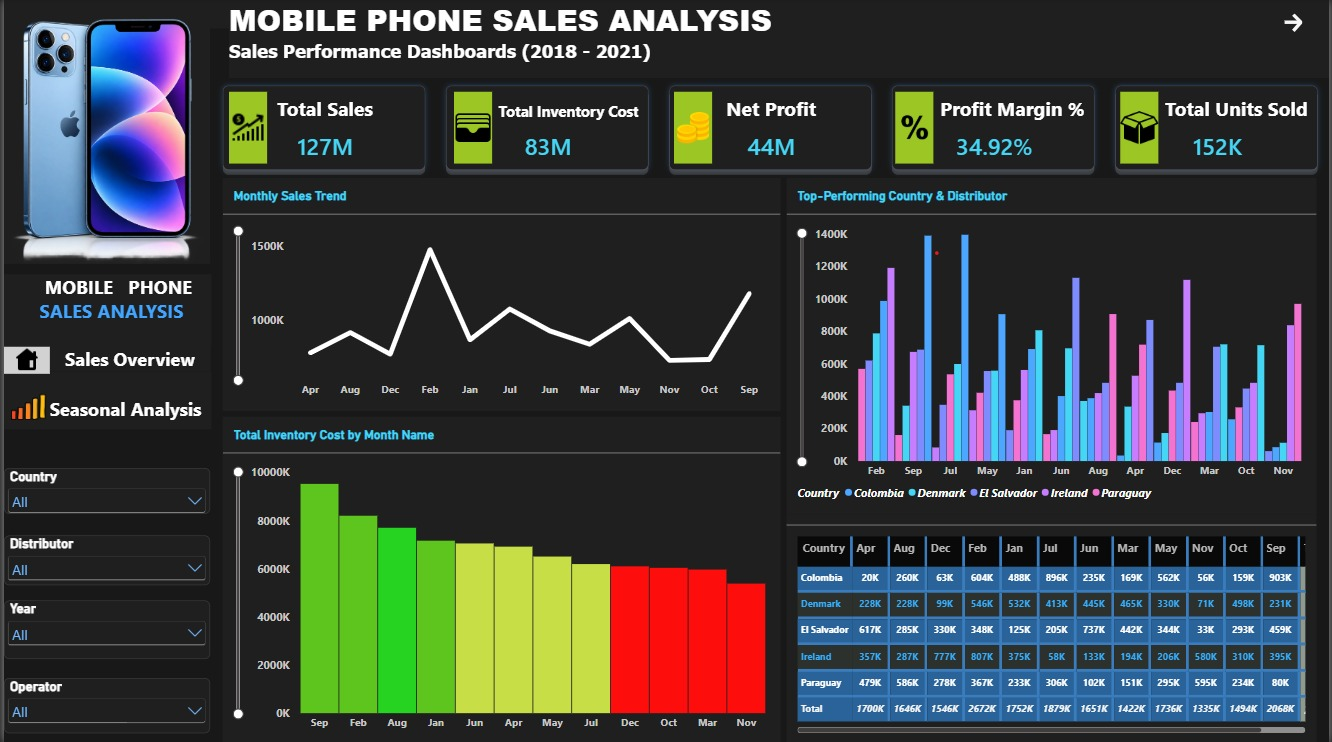

The page's visual inventory and layout, read from the dashboard file:
{"tool":"powerbi","page":{"name":"Page 1","canvas":[1920,1080],"ordinal":0},"visuals":[{"type":"cardVisual","fields":{"Data":["Mesure.Total Sales","Mesure.Total Cost","Mesure.Net Profit","Mesure.Profit Margin %","Mesure.Total Units Sold"]},"box":[305.6,116.7,1607.4,144.4],"z":2000},{"type":"slicer","fields":{"Values":["Phone Sales.Country"]},"box":[0,680.4,298.1,66.7],"z":3000},{"type":"slicer","fields":{"Values":["Phone Sales.Distributor"]},"box":[0,778.2,298.1,72.2],"z":4000},{"type":"slicer","fields":{"Values":["Date_Phones.Year"]},"box":[0,872.3,298.1,85.2],"z":5000},{"type":"clusteredColumnChart","title":"Top-Performing Country & Distributor","fields":{"Category":["Date_Phones.Month Name"],"Series":["Phone Sales.Country"],"Y":["Mesure.Total Sales"]},"box":[1123.8,260.6,767.3,486.8],"z":6000},{"type":"textbox","box":[150,0,233.8,43.8],"z":7000},{"type":"textbox","box":[325.9,0,1594.4,116],"z":8000},{"type":"slicer","fields":{"Values":["Phone Sales.Operator"]},"box":[0,985.2,298.1,79.6],"z":9000},{"type":"image","box":[0,0,298.1,385.2],"z":10000},{"type":"textbox","box":[0,400,300,103.7],"z":11000},{"type":"textbox","box":[0,468.5,299,72],"z":12000},{"type":"textbox","box":[0,540.7,300,83.3],"z":13000},{"type":"image","box":[0,563,66.7,61.1],"z":14000},{"type":"image","box":[0,505.6,66.7,38.9],"z":15000},{"type":"image","box":[1616.7,136,55,104],"z":16000},{"type":"image","box":[325.9,136,55,104],"z":17000},{"type":"image","box":[970.4,136,55,104],"z":18000},{"type":"image","box":[1290.7,136,55,104],"z":19000},{"type":"image","box":[651.9,136,55,104],"z":20000},{"type":"lineChart","title":"Monthly Sales Trend","fields":{"Category":["Date_Phones.Month Name"],"Y":["Mesure.Net Profit"]},"box":[316.7,260.6,807.1,337],"z":21000},{"type":"pivotTable","fields":{"Columns":["Date_Phones.Month Name"],"Rows":["Phone Sales.Country"],"Values":["Mesure.Total Inventory Cost"]},"box":[1132.8,747.4,767.3,333],"z":22000},{"type":"lineClusteredColumnComboChart","fields":{"Category":["Date_Phones.Month Name"],"Y":["Mesure.Total Inventory Cost"]},"box":[316.7,606.2,807.1,474.1],"z":23000},{"type":"actionButton","box":[1811.5,0,108.6,72.4],"z":24000}]}

Visuals, with their boxes in screenshot pixels (x1, y1, x2, y2), scaled from the page's 1920x1080 canvas onto the 1332x742 screenshot:
cardVisual - Mesure.Total Sales x Mesure.Total Cost: locate(212, 80, 1327, 179)
slicer - Phone Sales.Country: locate(0, 467, 207, 513)
slicer - Phone Sales.Distributor: locate(0, 535, 207, 584)
slicer - Date_Phones.Year: locate(0, 599, 207, 658)
"Top-Performing Country & Distributor" clusteredColumnChart: locate(780, 179, 1312, 513)
textbox: locate(104, 0, 266, 30)
textbox: locate(226, 0, 1331, 80)
slicer - Phone Sales.Operator: locate(0, 677, 207, 732)
image: locate(0, 0, 207, 265)
textbox: locate(0, 275, 208, 346)
textbox: locate(0, 322, 207, 371)
textbox: locate(0, 371, 208, 429)
image: locate(0, 387, 46, 429)
image: locate(0, 347, 46, 374)
image: locate(1122, 93, 1160, 165)
image: locate(226, 93, 264, 165)
image: locate(673, 93, 711, 165)
image: locate(895, 93, 934, 165)
image: locate(452, 93, 490, 165)
"Monthly Sales Trend" lineChart: locate(220, 179, 780, 411)
pivotTable - Date_Phones.Month Name x Phone Sales.Country: locate(786, 513, 1318, 741)
lineClusteredColumnComboChart - Date_Phones.Month Name x Mesure.Total Inventory Cost: locate(220, 416, 780, 741)
actionButton: locate(1257, 0, 1331, 50)
